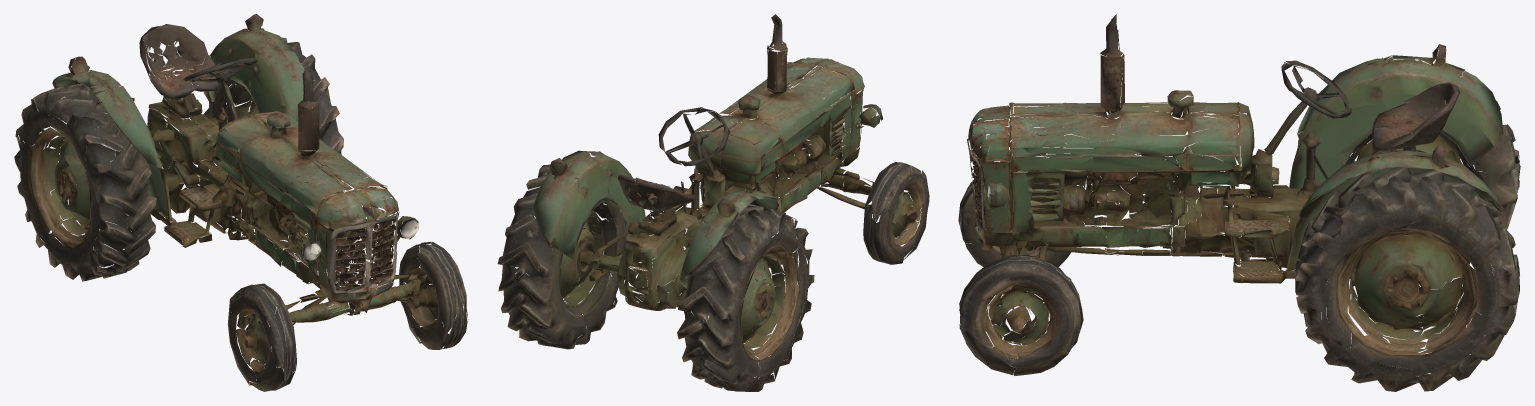
The model's file is tractor.glb.
3 renders of one model, left to right at view 1: azimuth 30°, elevation 25°; view 2: azimuth 150°, elevation 25°; view 3: azimuth 270°, elevation 25°, orthographic. The views are drawn at different scales.
Parts seen in each view (by area): view 1: tractor; view 2: tractor; view 3: tractor.
Part boxes in pixels (x1=…): tractor: x1=14, y1=14, x2=468, y2=391; tractor: x1=497, y1=14, x2=929, y2=391; tractor: x1=958, y1=14, x2=1520, y2=391.
Bounding box in the file's own units: 2.62 × 2.78 × 4.5.
Materials: 1 (1 with a texture image).
